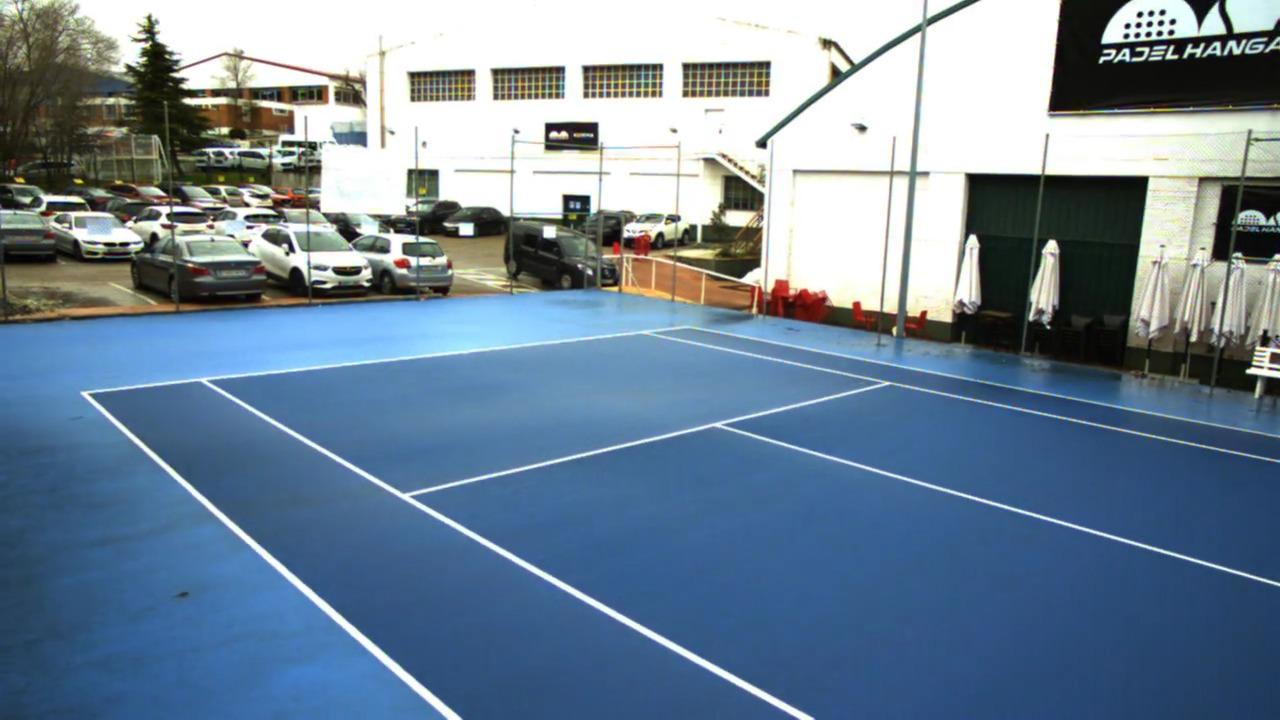cancha_tenis: (0, 330, 1280, 720)
point_f1: (195, 367, 229, 394)
point_f2: (636, 322, 658, 343)
point_i1: (389, 480, 425, 517)
point_i2: (874, 372, 900, 392)
point_ic1: (704, 414, 738, 440)
